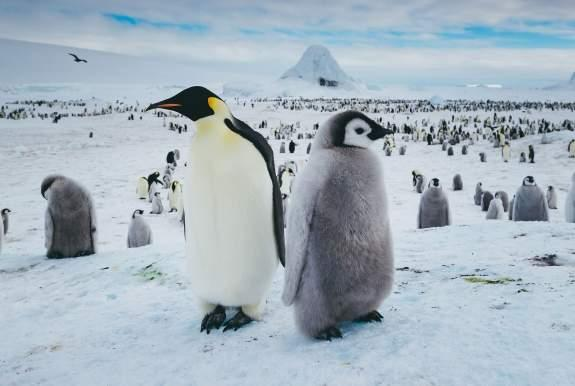emporer: (133, 73, 313, 339)
